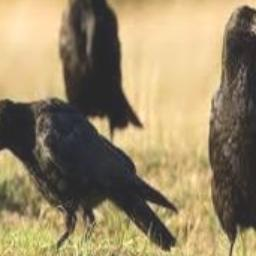Crow: (0, 96, 178, 253), (60, 0, 144, 146), (208, 4, 256, 256)
